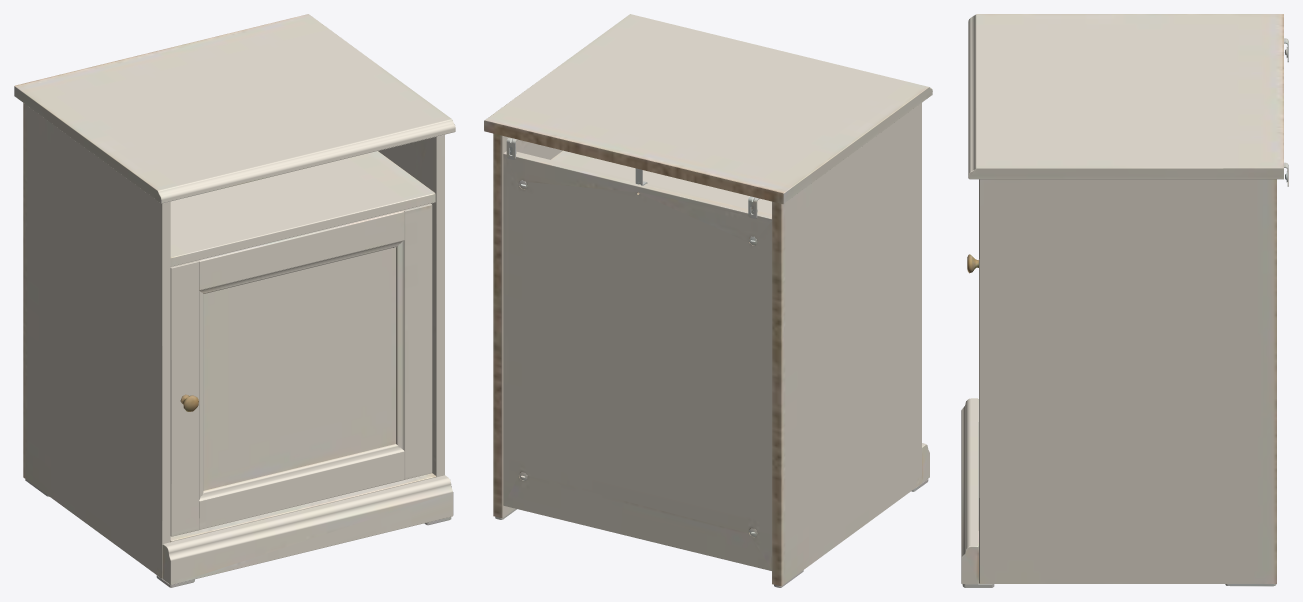
3 views of the same model, side by side, from view 1: azimuth 30°, elevation 25°; view 2: azimuth 150°, elevation 25°; view 3: azimuth 270°, elevation 25° (orthographic). The views are drawn at different scales.
Parts seen in each view (by area): view 1: ASY_ART_60627683_S01_NV01; view 2: ASY_ART_60627683_S01_NV01; view 3: ASY_ART_60627683_S01_NV01.
Part boxes in pixels (x1,y1,x2,y2): ASY_ART_60627683_S01_NV01: (14, 14, 455, 587); ASY_ART_60627683_S01_NV01: (484, 14, 932, 587); ASY_ART_60627683_S01_NV01: (961, 14, 1288, 587).
Size of the model in its own units: 0.5159 by 0.6605 by 0.4624.
Materials: 1 (1 with a texture image).
